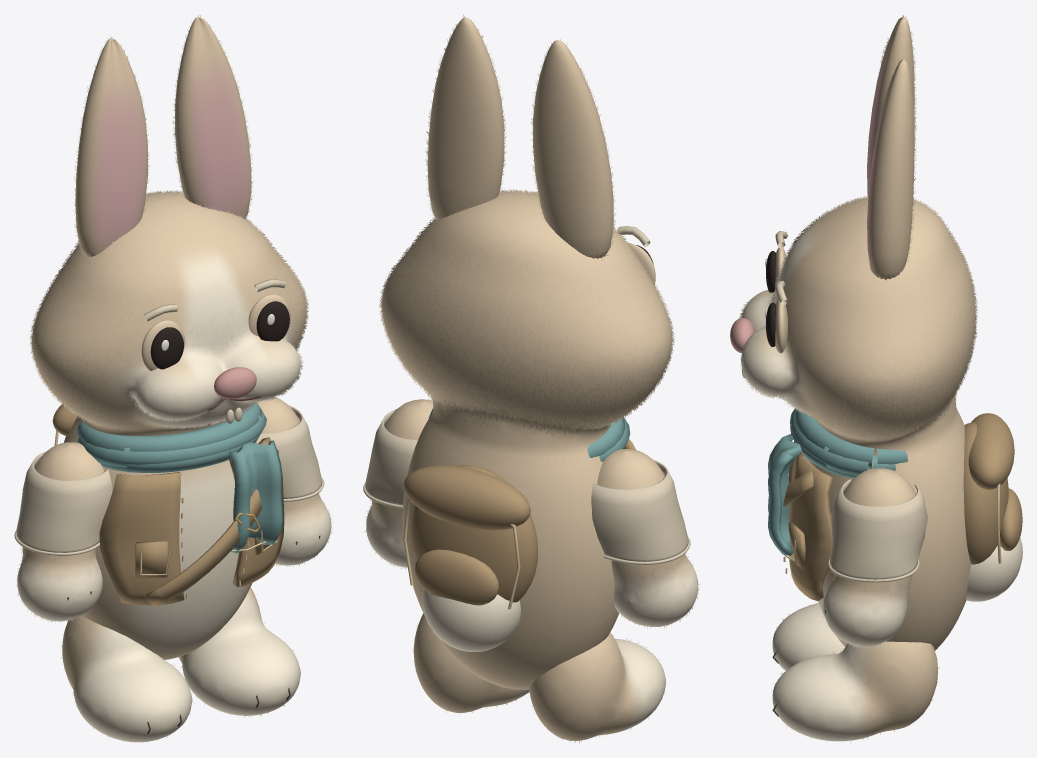
The model's file is rabbit_softtoy.glb.
The picture shows the model from 3 angles, left to right: view 1: azimuth 30°, elevation 25°; view 2: azimuth 150°, elevation 25°; view 3: azimuth 270°, elevation 25°; orthographic projection. The views are drawn at different scales.
Visible parts, largest first — view 1: ContinuousSculptBody, SculptFaceAndClothing, PhysicalShortFur, ClothedPalm_L, PlushEar_L, PlushEar_R, Paw_L, Paw_R, ClothedPalm_R, ScarfTailWoven, EyeSurface_L, EyeSurface_R (+2 smaller); view 2: ContinuousSculptBody, SculptFaceAndClothing, PhysicalShortFur, ClothedPalm_L, PlushEar_L, PlushEar_R, Paw_L, ClothedPalm_R, Paw_R, PhysicalShortFur.003, PhysicalShortFur.006; view 3: ContinuousSculptBody, SculptFaceAndClothing, ClothedPalm_R, PhysicalShortFur, Paw_R, PlushEar_R, Paw_L, ScarfTailWoven, PlushEar_L, PhysicalShortFur.006.
Boxes of the visible parts, x1,y1,x2,y2 form: ContinuousSculptBody: (32, 193, 306, 659); SculptFaceAndClothing: (52, 279, 290, 607); PhysicalShortFur: (30, 190, 308, 430); ClothedPalm_L: (14, 442, 111, 621); PlushEar_L: (75, 38, 147, 256); PlushEar_R: (175, 17, 251, 218); Paw_L: (62, 615, 192, 742); Paw_R: (178, 587, 300, 715); ClothedPalm_R: (256, 397, 331, 565); ScarfTailWoven: (229, 440, 283, 553); EyeSurface_L: (150, 327, 183, 369); EyeSurface_R: (256, 301, 289, 341); ContinuousSculptBody: (381, 192, 671, 689); SculptFaceAndClothing: (403, 226, 655, 651); PhysicalShortFur: (379, 189, 674, 436); ClothedPalm_L: (591, 449, 698, 626); PlushEar_L: (533, 40, 613, 258); PlushEar_R: (427, 17, 504, 219); Paw_L: (529, 632, 665, 740); ClothedPalm_R: (363, 399, 433, 567); Paw_R: (413, 613, 529, 712); PhysicalShortFur.003: (531, 39, 615, 259); PhysicalShortFur.006: (425, 14, 506, 216); ContinuousSculptBody: (741, 197, 975, 650); SculptFaceAndClothing: (730, 231, 1022, 601); ClothedPalm_R: (823, 468, 927, 646); PhysicalShortFur: (739, 196, 977, 441); Paw_R: (772, 641, 937, 741); PlushEar_R: (867, 59, 914, 279); Paw_L: (772, 603, 844, 670); ScarfTailWoven: (768, 434, 801, 555); PlushEar_L: (867, 17, 914, 197); PhysicalShortFur.006: (867, 58, 916, 280).
Bounding box in the file's own units: 1.57 × 3.27 × 1.29.
